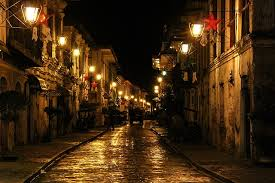strada: (41, 131, 226, 181)
